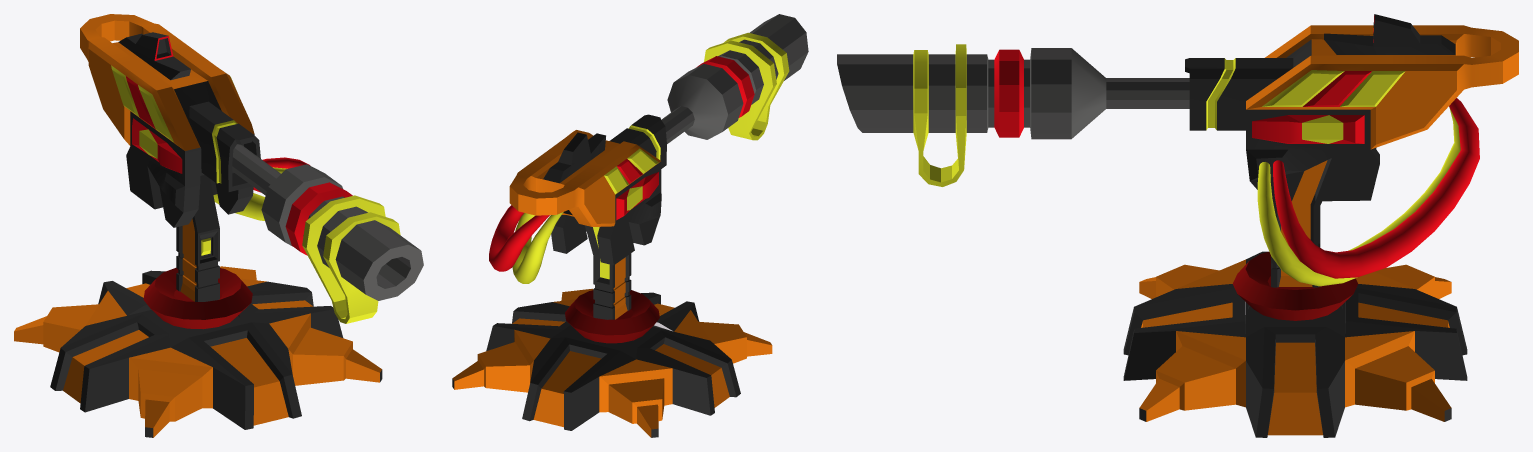
The model's file is turret1.glb.
3 views of the same model, side by side, from view 1: azimuth 30°, elevation 25°; view 2: azimuth 150°, elevation 25°; view 3: azimuth 270°, elevation 25° (orthographic). The views are drawn at different scales.
Parts seen in each view (by area): view 1: podstawka, srodek, lufa, stojak, minipodstawka, kabelki; view 2: podstawka, srodek, lufa, kabelki, minipodstawka, stojak; view 3: podstawka, srodek, lufa, kabelki, minipodstawka, stojak.
Part boxes in pixels (x1=…): podstawka: x1=14, y1=266, x2=382, y2=437; srodek: x1=80, y1=14, x2=260, y2=227; lufa: x1=232, y1=144, x2=423, y2=323; stojak: x1=176, y1=175, x2=219, y2=301; minipodstawka: x1=143, y1=268, x2=252, y2=329; kabelki: x1=213, y1=157, x2=310, y2=220; podstawka: x1=452, y1=288, x2=772, y2=437; srodek: x1=509, y1=114, x2=666, y2=265; lufa: x1=661, y1=14, x2=808, y2=143; kabelki: x1=489, y1=205, x2=563, y2=283; minipodstawka: x1=565, y1=290, x2=659, y2=343; stojak: x1=585, y1=225, x2=631, y2=319; podstawka: x1=1123, y1=251, x2=1467, y2=437; srodek: x1=1185, y1=14, x2=1518, y2=206; lufa: x1=837, y1=44, x2=1189, y2=186; kabelki: x1=1257, y1=98, x2=1479, y2=286; minipodstawka: x1=1233, y1=251, x2=1357, y2=320; stojak: x1=1271, y1=160, x2=1327, y2=287.
Bounding box in the file's own units: 2.65 × 2.99 × 5.26.
